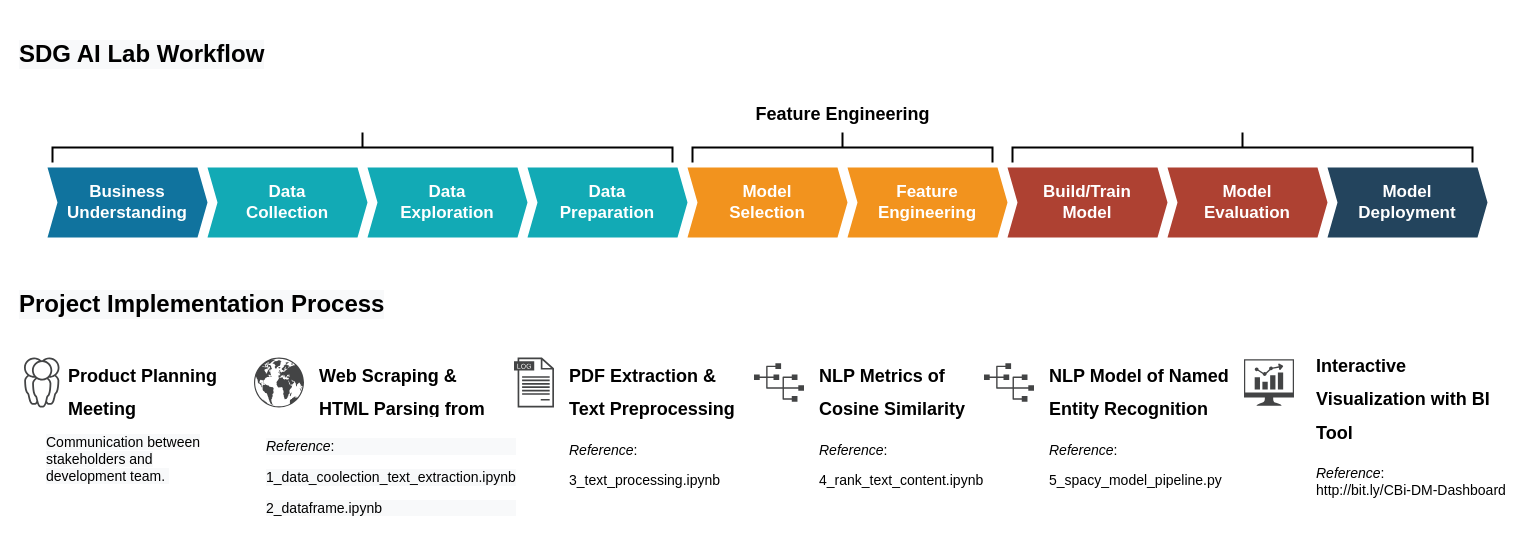
Image size: 1528x554. Some labels were removed from this diagram. Here are the shapes that lost their labels. From the top down, the centre of each, then its label:
At [362,147]: "Prediction Engineering".
At [1242,147]: "Modelling".
